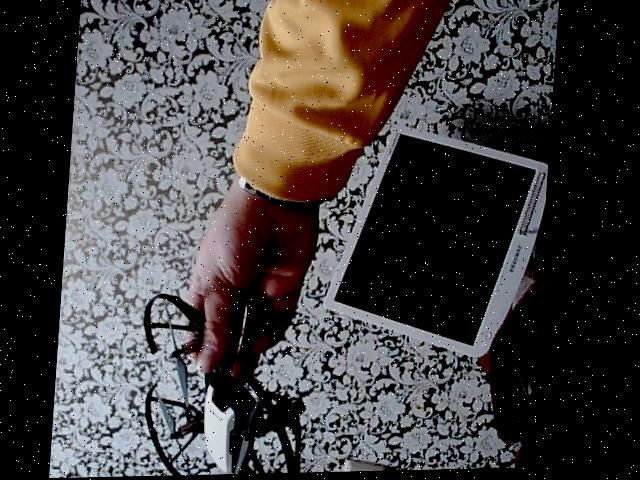drone: (117, 282, 329, 478)
